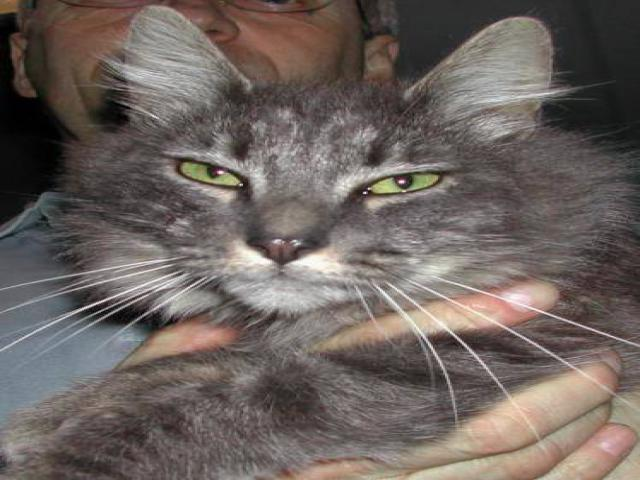cat: (34, 6, 638, 458)
